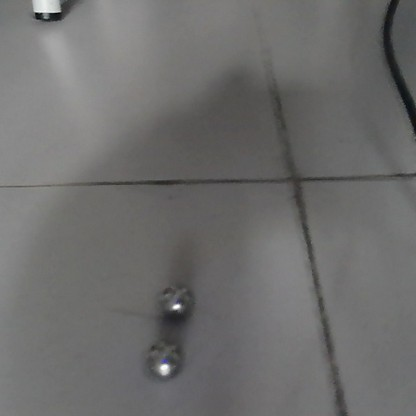ironball: (144, 341, 182, 380), (159, 280, 195, 318)
